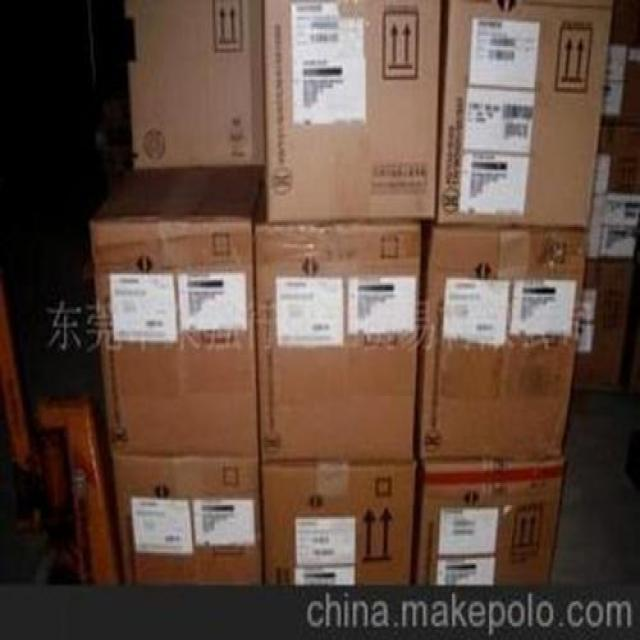box: (91, 178, 268, 468), (256, 221, 426, 469), (429, 0, 612, 227), (254, 3, 439, 225), (424, 226, 588, 461), (127, 0, 263, 172), (411, 455, 568, 586), (115, 446, 262, 582), (259, 454, 406, 586)
